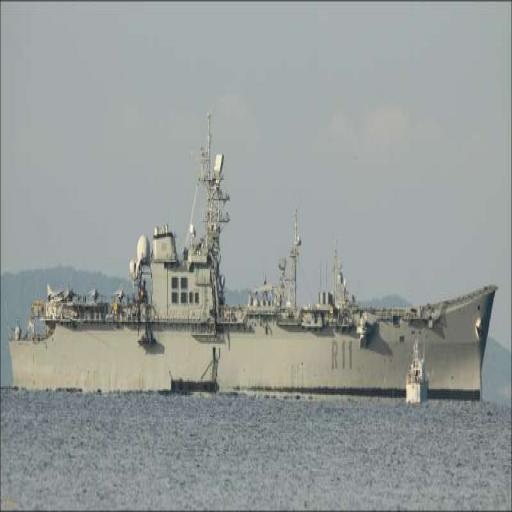Portanaves: (9, 105, 500, 409)
